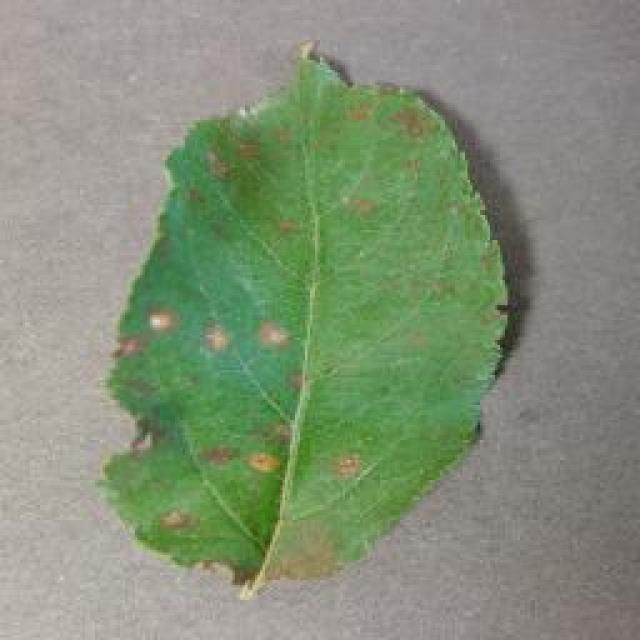apple scab disease: (98, 38, 512, 598)
